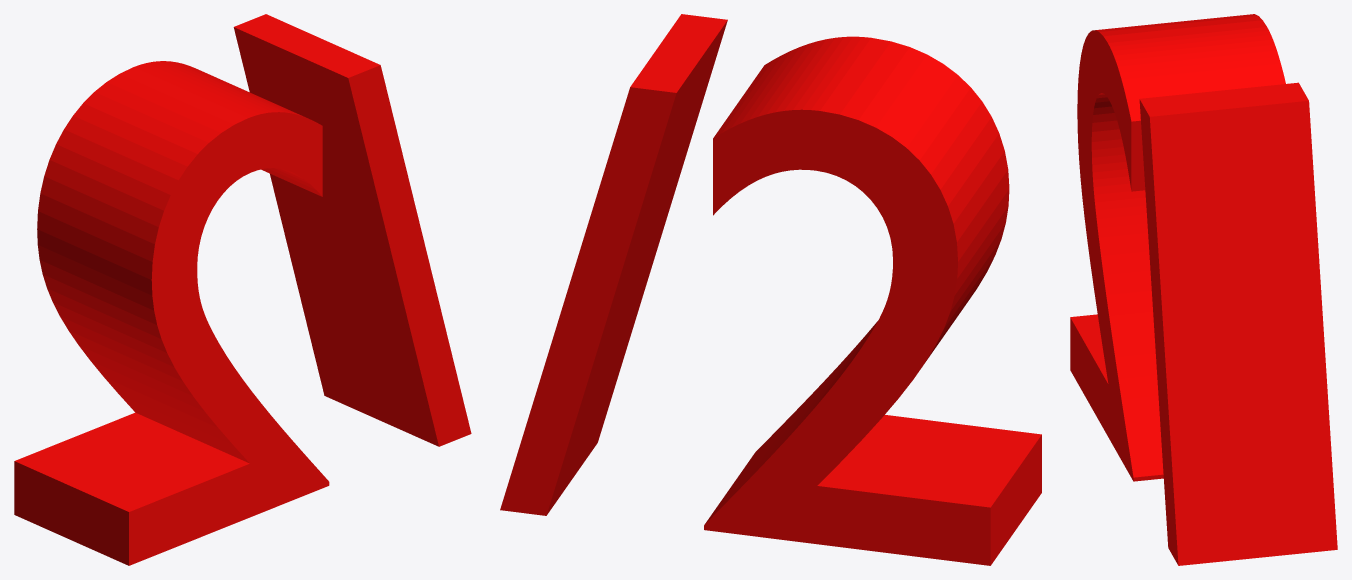
Rendered from Score Diviser par deux.fbx.
The picture shows the model from 3 angles, left to right: view 1: azimuth 30°, elevation 25°; view 2: azimuth 150°, elevation 25°; view 3: azimuth 270°, elevation 25°; orthographic projection. The views are drawn at different scales.
Parts seen in each view (by area): view 1: /2; view 2: /2; view 3: /2.
Part boxes in pixels (x1=…): /2: x1=14, y1=14, x2=471, y2=565; /2: x1=500, y1=14, x2=1041, y2=565; /2: x1=1070, y1=14, x2=1337, y2=565.
Bounding box in the file's own units: 19.47 × 10.64 × 17.49.
